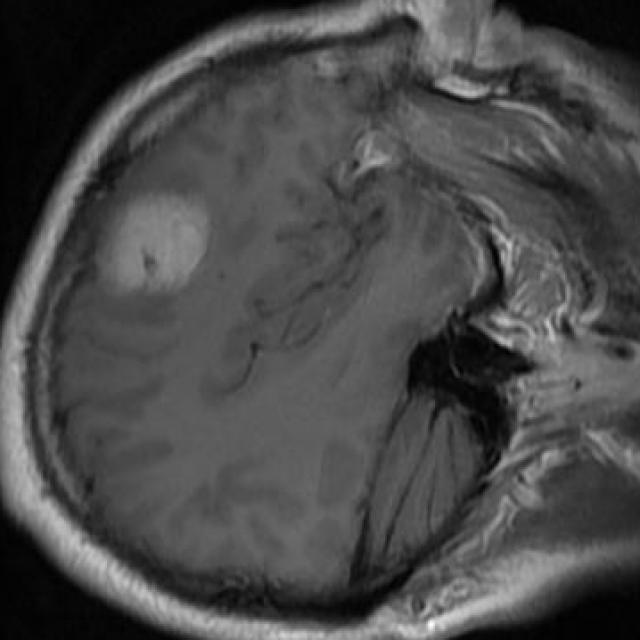meningioma: (98, 196, 209, 291)
